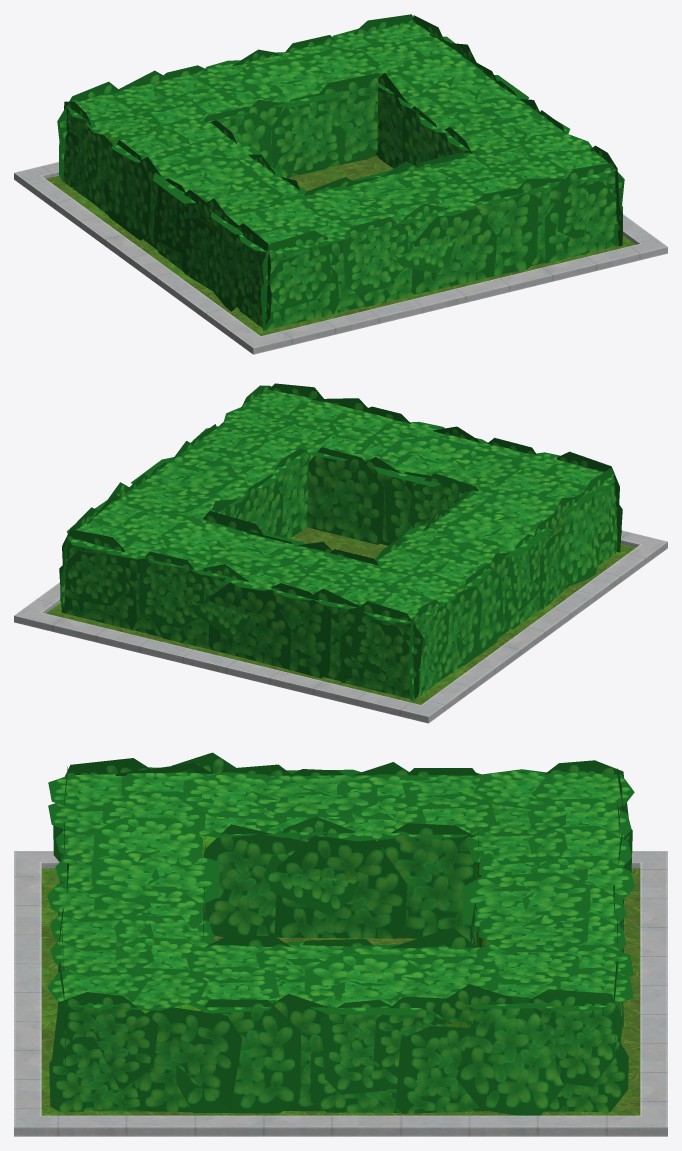
The model's file is hedge_square.fbx.
3 views of the same model, one above another, from view 1: azimuth 30°, elevation 25°; view 2: azimuth 150°, elevation 25°; view 3: azimuth 270°, elevation 25° (orthographic). The views are drawn at different scales.
Parts seen in each view (by area): view 1: hedge_square, hedge_square_bed; view 2: hedge_square, hedge_square_bed; view 3: hedge_square, hedge_square_bed, hedge_square_solid.
Boxes of the visible parts, x1,y1,x2,y2 form: hedge_square: [57, 14, 624, 330]; hedge_square_bed: [14, 156, 667, 354]; hedge_square: [59, 383, 622, 700]; hedge_square_bed: [14, 527, 667, 723]; hedge_square: [47, 752, 634, 1115]; hedge_square_bed: [14, 851, 667, 1136]; hedge_square_solid: [67, 801, 500, 1027].
Size of the model in its own units: 477 by 122 by 477.
